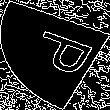P_SE: (15, 27, 95, 83)
